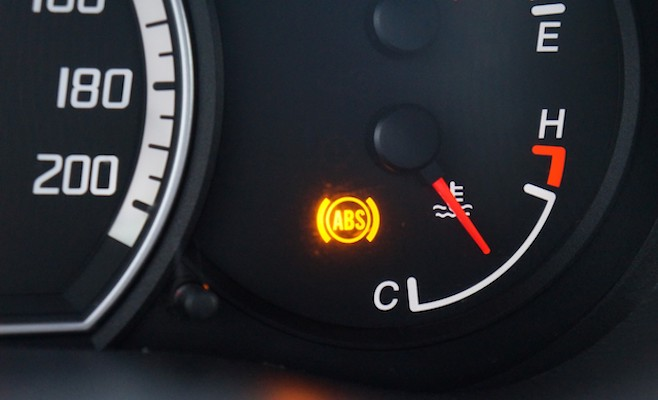ABS: (306, 190, 386, 245)
